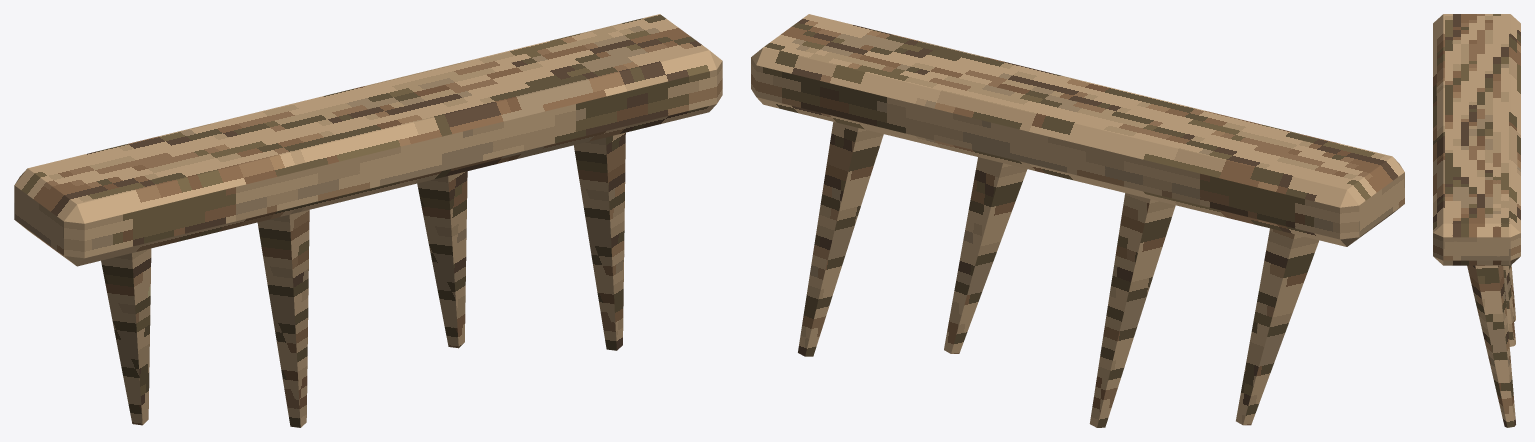
File: beira_reta.fbx
3 renders of one model, left to right at view 1: azimuth 30°, elevation 25°; view 2: azimuth 150°, elevation 25°; view 3: azimuth 270°, elevation 25°, orthographic. The views are drawn at different scales.
Parts seen in each view (by area): view 1: deserto_beira_reta; view 2: deserto_beira_reta; view 3: deserto_beira_reta.
Boxes of the visible parts, x1,y1,x2,y2 form: deserto_beira_reta: (14,14,722,427); deserto_beira_reta: (751,14,1404,427); deserto_beira_reta: (1433,14,1520,427).
Size of the model in its own units: 100 by 46.71 by 17.
Materials: 1 (1 with a texture image).
